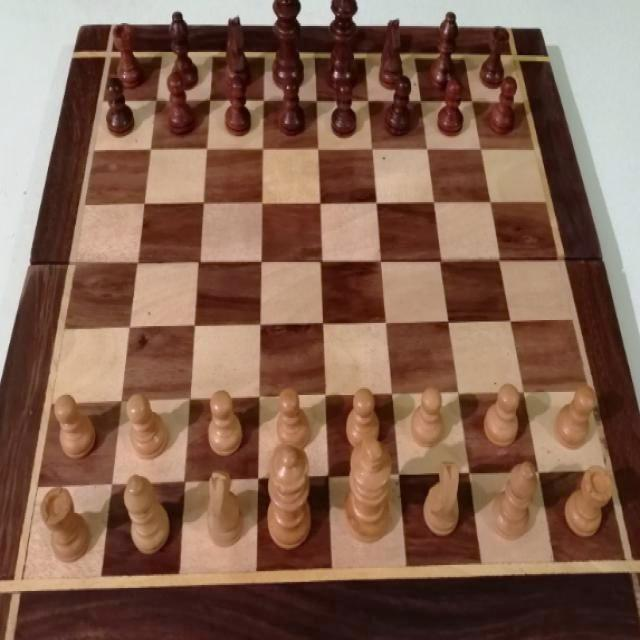chess-table-corners: (5, 543, 46, 601), (506, 42, 532, 74), (604, 540, 630, 570), (100, 48, 119, 72)
